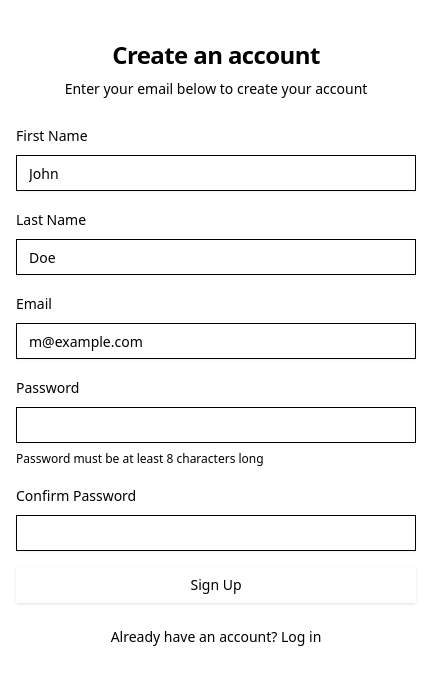
SignUpPage › shows error if API returns error
Type "Jane" into the field labelled "First Name" at (216, 173), box [16,155,416,191]
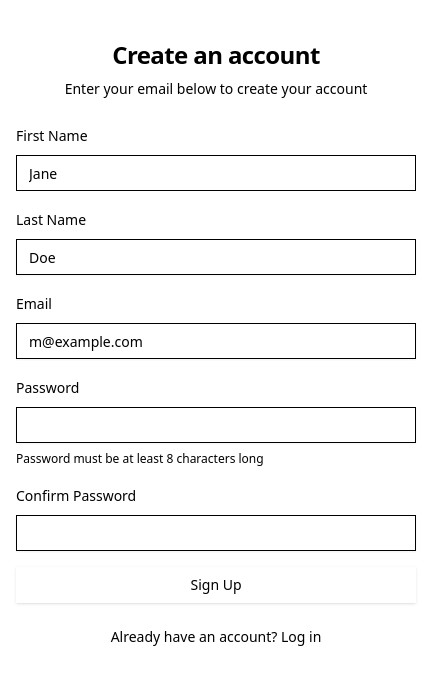
Type "Smith" into the field labelled "Last Name" at (216, 257), box [16,239,416,275]
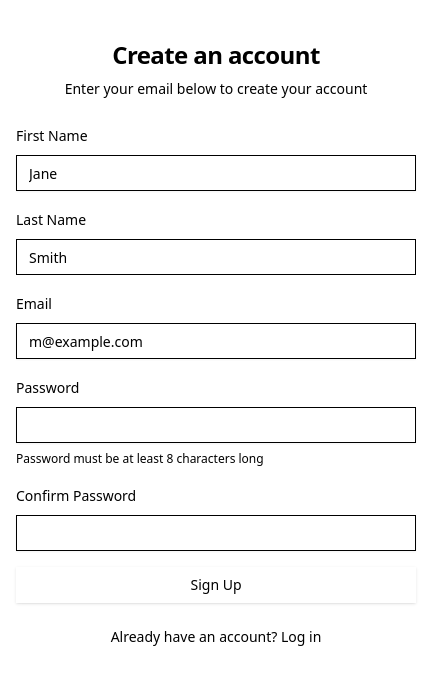
Type "jane@example.com" into the field labelled "Email" at (216, 341), box [16,323,416,359]
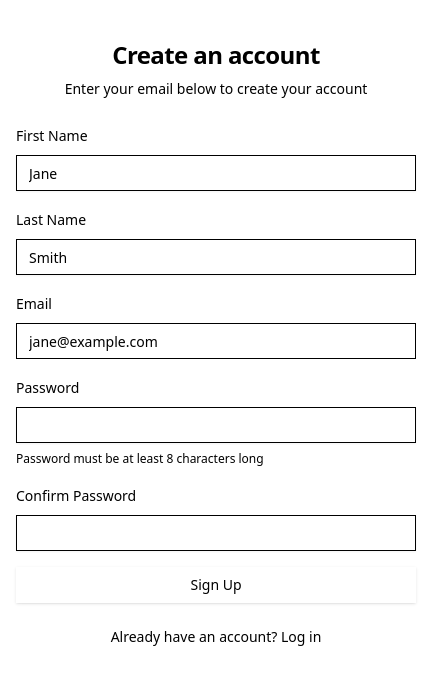
Type "password123" into the password field labelled "Password" at (216, 425), box [16,407,416,443]
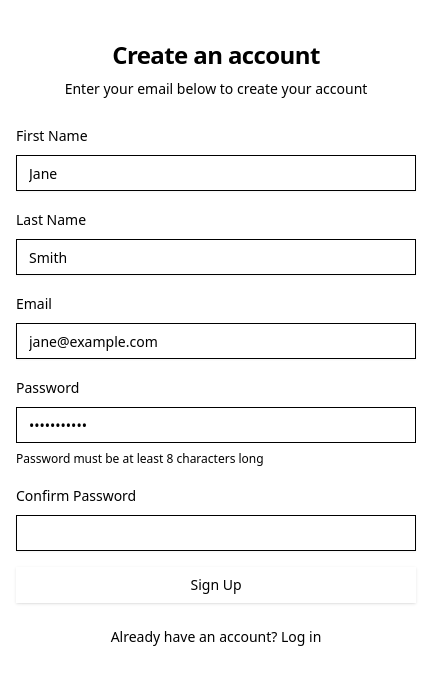
Type "password123" into the password field labelled "Confirm Password" at (216, 533), box [16,515,416,551]
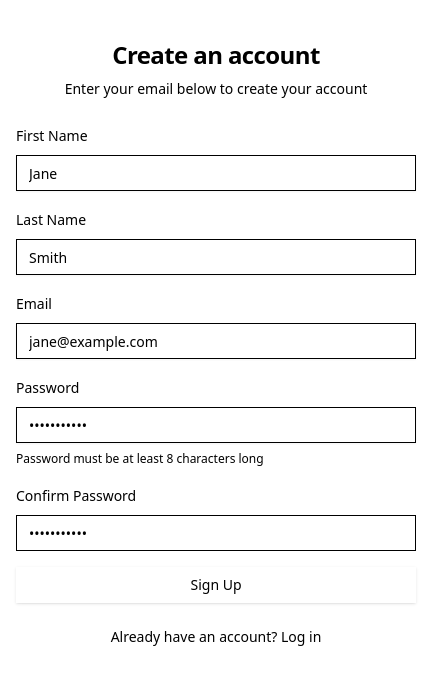
Click the button "Sign Up" at (216, 585), box [16,567,416,603]
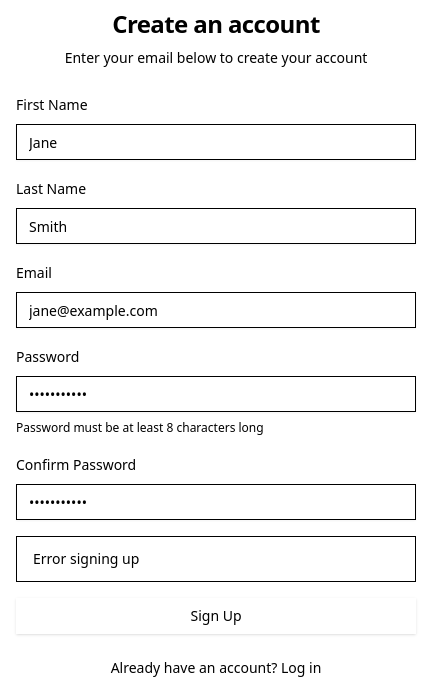
Now the text "Error signing up" is shown, box [33,549,139,568]
